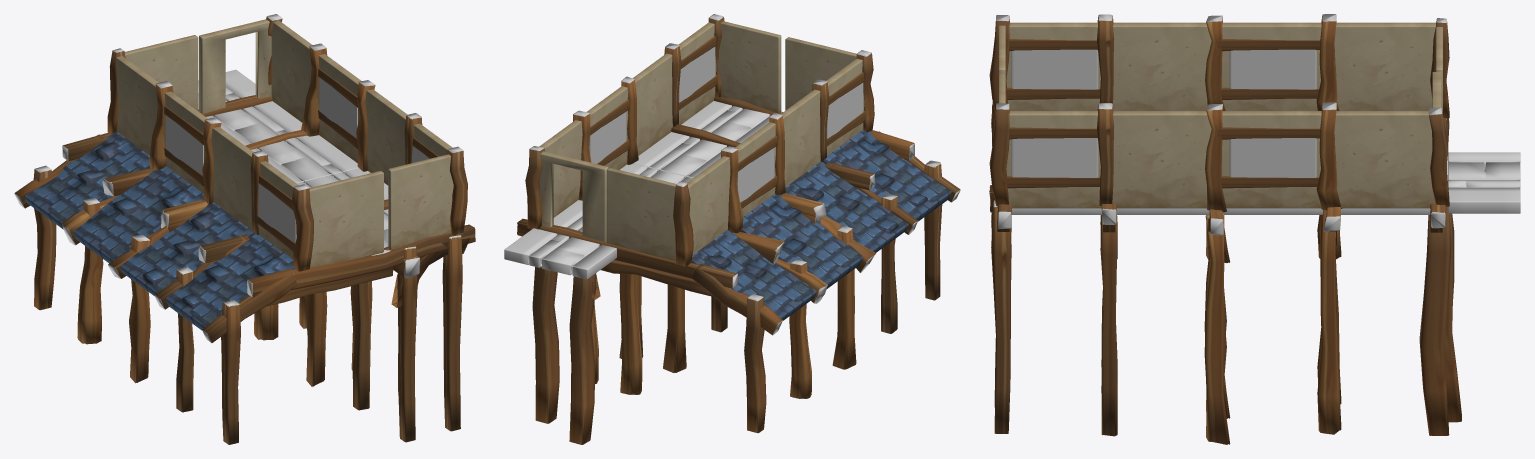
Rendered from SecondFloor.fbx.
3 renders of one model, left to right at view 1: azimuth 30°, elevation 25°; view 2: azimuth 150°, elevation 25°; view 3: azimuth 270°, elevation 25°, orthographic. The views are drawn at different scales.
Visible parts, largest first — view 1: SecondFloor; view 2: SecondFloor; view 3: SecondFloor.
Part boxes in pixels (x1=…): SecondFloor: x1=14, y1=14, x2=475, y2=444; SecondFloor: x1=504, y1=14, x2=960, y2=444; SecondFloor: x1=989, y1=14, x2=1520, y2=444.
Size of the model in its own units: 9.13 by 9.15 by 12.86.
